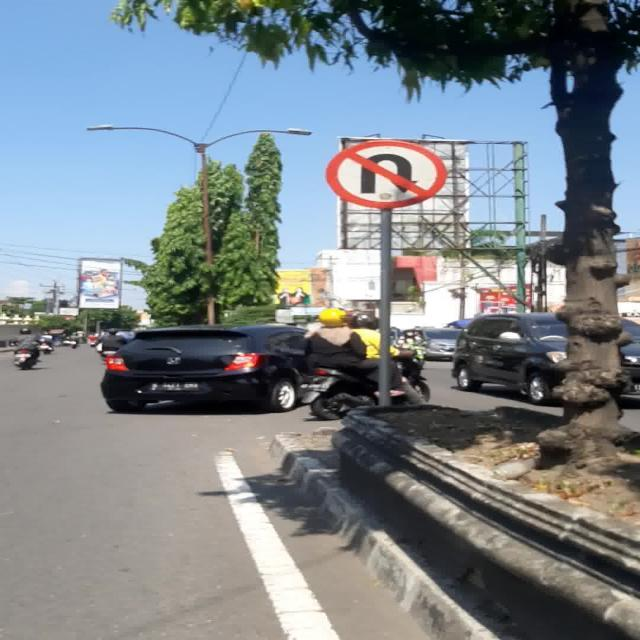Dilarang Putar Balik: (325, 140, 448, 208)
